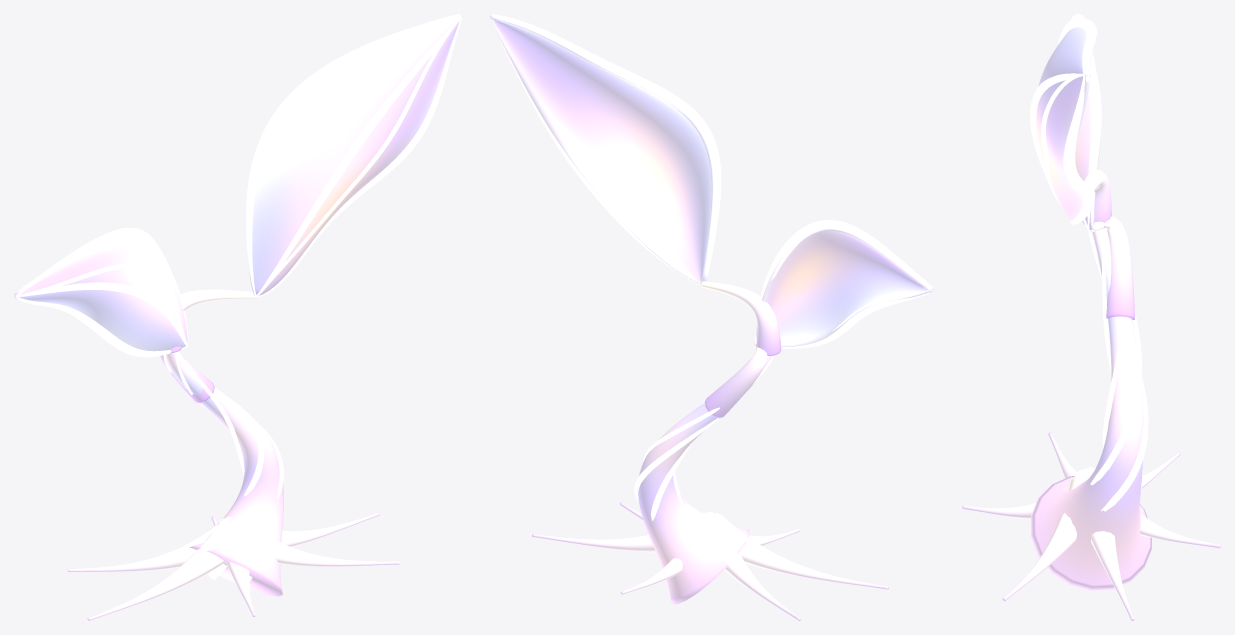
File: 03_Two-leaf_Sprout.glb
3 renders of one model, left to right at view 1: azimuth 30°, elevation 25°; view 2: azimuth 150°, elevation 25°; view 3: azimuth 270°, elevation 25°, orthographic. The views are drawn at different scales.
Parts seen in each view (by area): view 1: Right | leaf blade, Left | leaf blade, Trunk | sculpted stem, Right | pearl lip, Root | flare 4, Right | central vein, Right | warm lip, Left | warm lip, Root | flare 3, Root | flare 6, Left | central vein, Right | lower vein (+7 smaller); view 2: Right | leaf blade, Left | leaf blade, Trunk | sculpted stem, Right | pearl lip, Root | flare 4, Right | branch, Root | flare 3, Left | branch, Left | warm lip, Right | warm lip, Root | flare 1, Left | pearl lip (+2 smaller); view 3: Trunk | sculpted stem, Right | leaf blade, Left | branch, Right | warm lip, Root | flare 6, Root | flare 1, Left | warm lip, Trunk | spiral filament 3, Left | leaf blade, Trunk | spiral filament 4, Right | branch, Right | central vein (+7 smaller).
Boxes of the visible parts, x1,y1,x2,y2 form: Right | leaf blade: (247, 14, 461, 297); Left | leaf blade: (14, 237, 187, 351); Trunk | sculpted stem: (166, 352, 283, 596); Right | pearl lip: (246, 16, 460, 296); Root | flare 4: (87, 521, 242, 620); Right | central vein: (256, 17, 461, 296); Right | warm lip: (257, 17, 461, 297); Left | warm lip: (16, 227, 188, 345); Root | flare 3: (67, 518, 226, 572); Root | flare 6: (240, 518, 399, 566); Left | central vein: (16, 282, 187, 346); Right | lower vein: (264, 29, 452, 289); Right | leaf blade: (490, 14, 714, 284); Left | leaf blade: (755, 227, 933, 347); Trunk | sculpted stem: (638, 355, 771, 604); Right | pearl lip: (498, 15, 721, 273); Root | flare 4: (712, 514, 888, 589); Right | branch: (701, 281, 781, 355); Root | flare 3: (701, 518, 800, 620); Left | branch: (704, 341, 767, 418); Left | warm lip: (760, 220, 932, 299); Right | warm lip: (499, 37, 674, 270); Root | flare 1: (532, 513, 705, 552); Left | pearl lip: (781, 296, 920, 348); Trunk | sculpted stem: (1031, 228, 1151, 590); Right | leaf blade: (1036, 27, 1097, 220); Left | branch: (1091, 216, 1134, 319); Right | warm lip: (1063, 75, 1094, 224); Root | flare 6: (1002, 476, 1088, 601); Root | flare 1: (1078, 476, 1134, 620); Left | warm lip: (1071, 14, 1101, 228); Trunk | spiral filament 3: (1090, 312, 1141, 485); Left | leaf blade: (1075, 16, 1100, 230); Trunk | spiral filament 4: (1087, 228, 1148, 511); Right | branch: (1082, 169, 1111, 227); Right | central vein: (1030, 73, 1084, 178).
Bounding box in the file's own units: 1.88 × 2.16 × 0.807.
